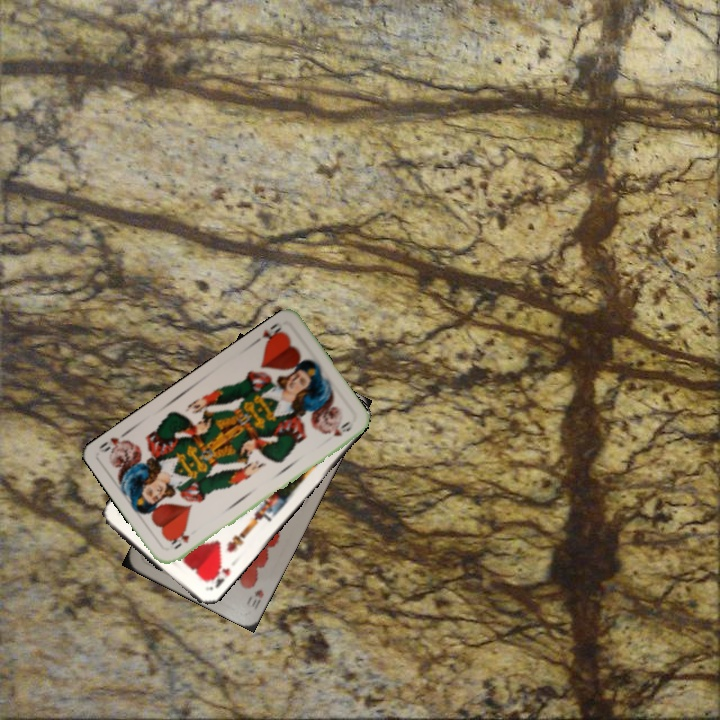H10: (242, 585, 266, 612)
HK: (203, 562, 233, 593)
HO: (250, 318, 289, 348), (167, 529, 192, 552)
